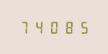eight: (60, 20, 73, 34)
five: (74, 20, 87, 34)
four: (32, 20, 45, 34)
seven: (18, 20, 31, 34)
zero: (46, 20, 59, 34)
